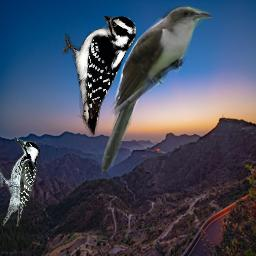Cuckoo: (96, 4, 212, 178)
Woodpecker: (63, 16, 137, 139), (0, 136, 40, 227)
